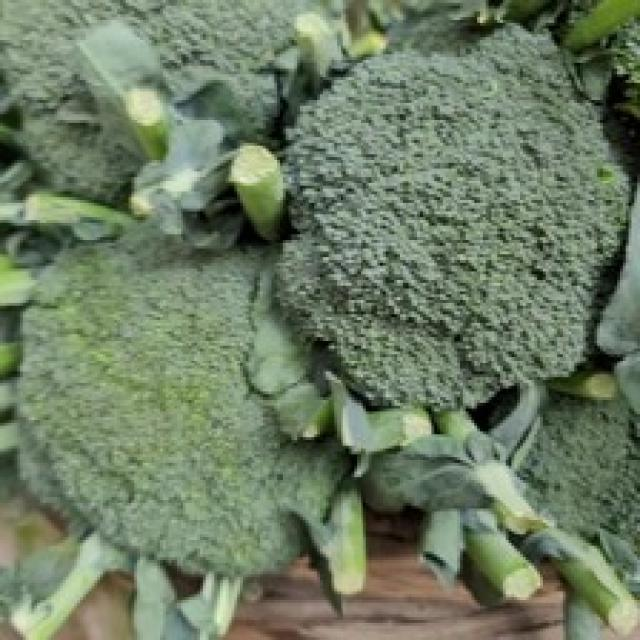Broccoli: (279, 26, 626, 407), (279, 26, 626, 407), (22, 224, 348, 576), (22, 226, 349, 576), (25, 224, 301, 574), (0, 1, 313, 203), (0, 1, 311, 203), (520, 392, 640, 551), (520, 392, 640, 551)
